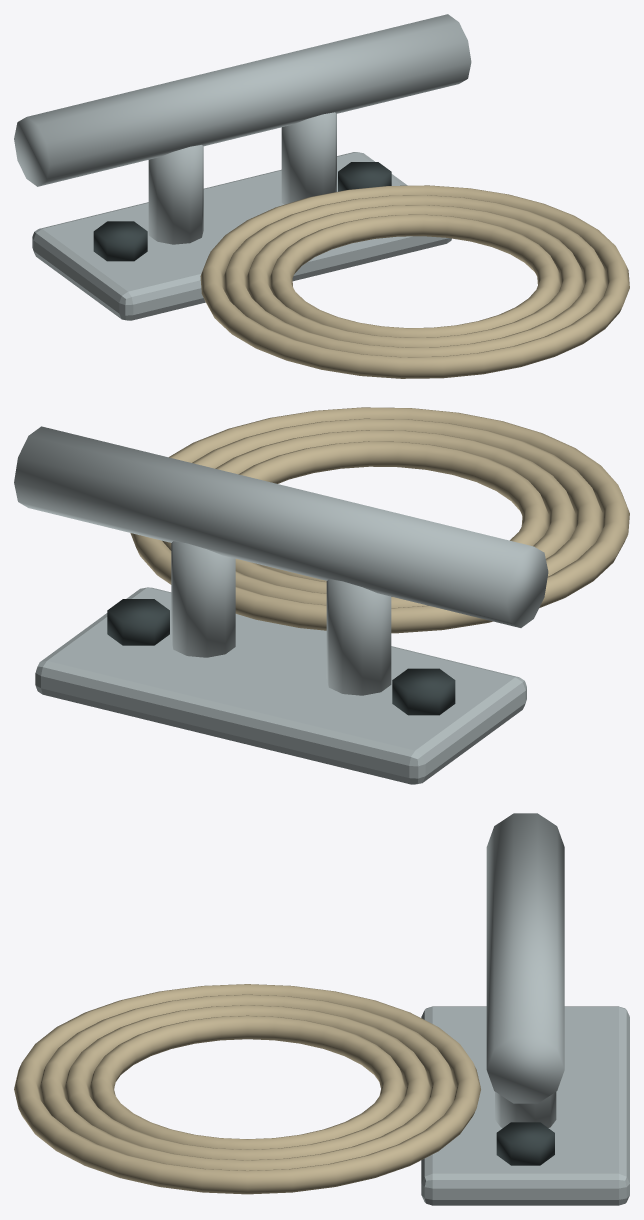
File: site-deck-cleat.glb
3 views of the same model, one above another, from view 1: azimuth 30°, elevation 25°; view 2: azimuth 150°, elevation 25°; view 3: azimuth 270°, elevation 25° (orthographic). The views are drawn at different scales.
Parts seen in each view (by area): view 1: site-deck-cleat_Galvanized_brushed_steel, site-deck-cleat_Braided_natural_rope, site-deck-cleat_Anthracite_anodized_metal; view 2: site-deck-cleat_Galvanized_brushed_steel, site-deck-cleat_Braided_natural_rope, site-deck-cleat_Anthracite_anodized_metal; view 3: site-deck-cleat_Braided_natural_rope, site-deck-cleat_Galvanized_brushed_steel, site-deck-cleat_Anthracite_anodized_metal.
Part boxes in pixels (bbox=[...]): site-deck-cleat_Galvanized_brushed_steel: bbox=[14, 14, 471, 320]; site-deck-cleat_Braided_natural_rope: bbox=[200, 185, 629, 378]; site-deck-cleat_Anthracite_anodized_metal: bbox=[93, 162, 391, 261]; site-deck-cleat_Galvanized_brushed_steel: bbox=[14, 426, 548, 784]; site-deck-cleat_Braided_natural_rope: bbox=[130, 407, 629, 633]; site-deck-cleat_Anthracite_anodized_metal: bbox=[107, 599, 455, 715]; site-deck-cleat_Braided_natural_rope: bbox=[14, 984, 480, 1194]; site-deck-cleat_Galvanized_brushed_steel: bbox=[421, 813, 629, 1205]; site-deck-cleat_Anthracite_anodized_metal: bbox=[496, 1122, 554, 1165].
Bounding box in the file's own units: 0.398 × 0.1561 × 0.443.
